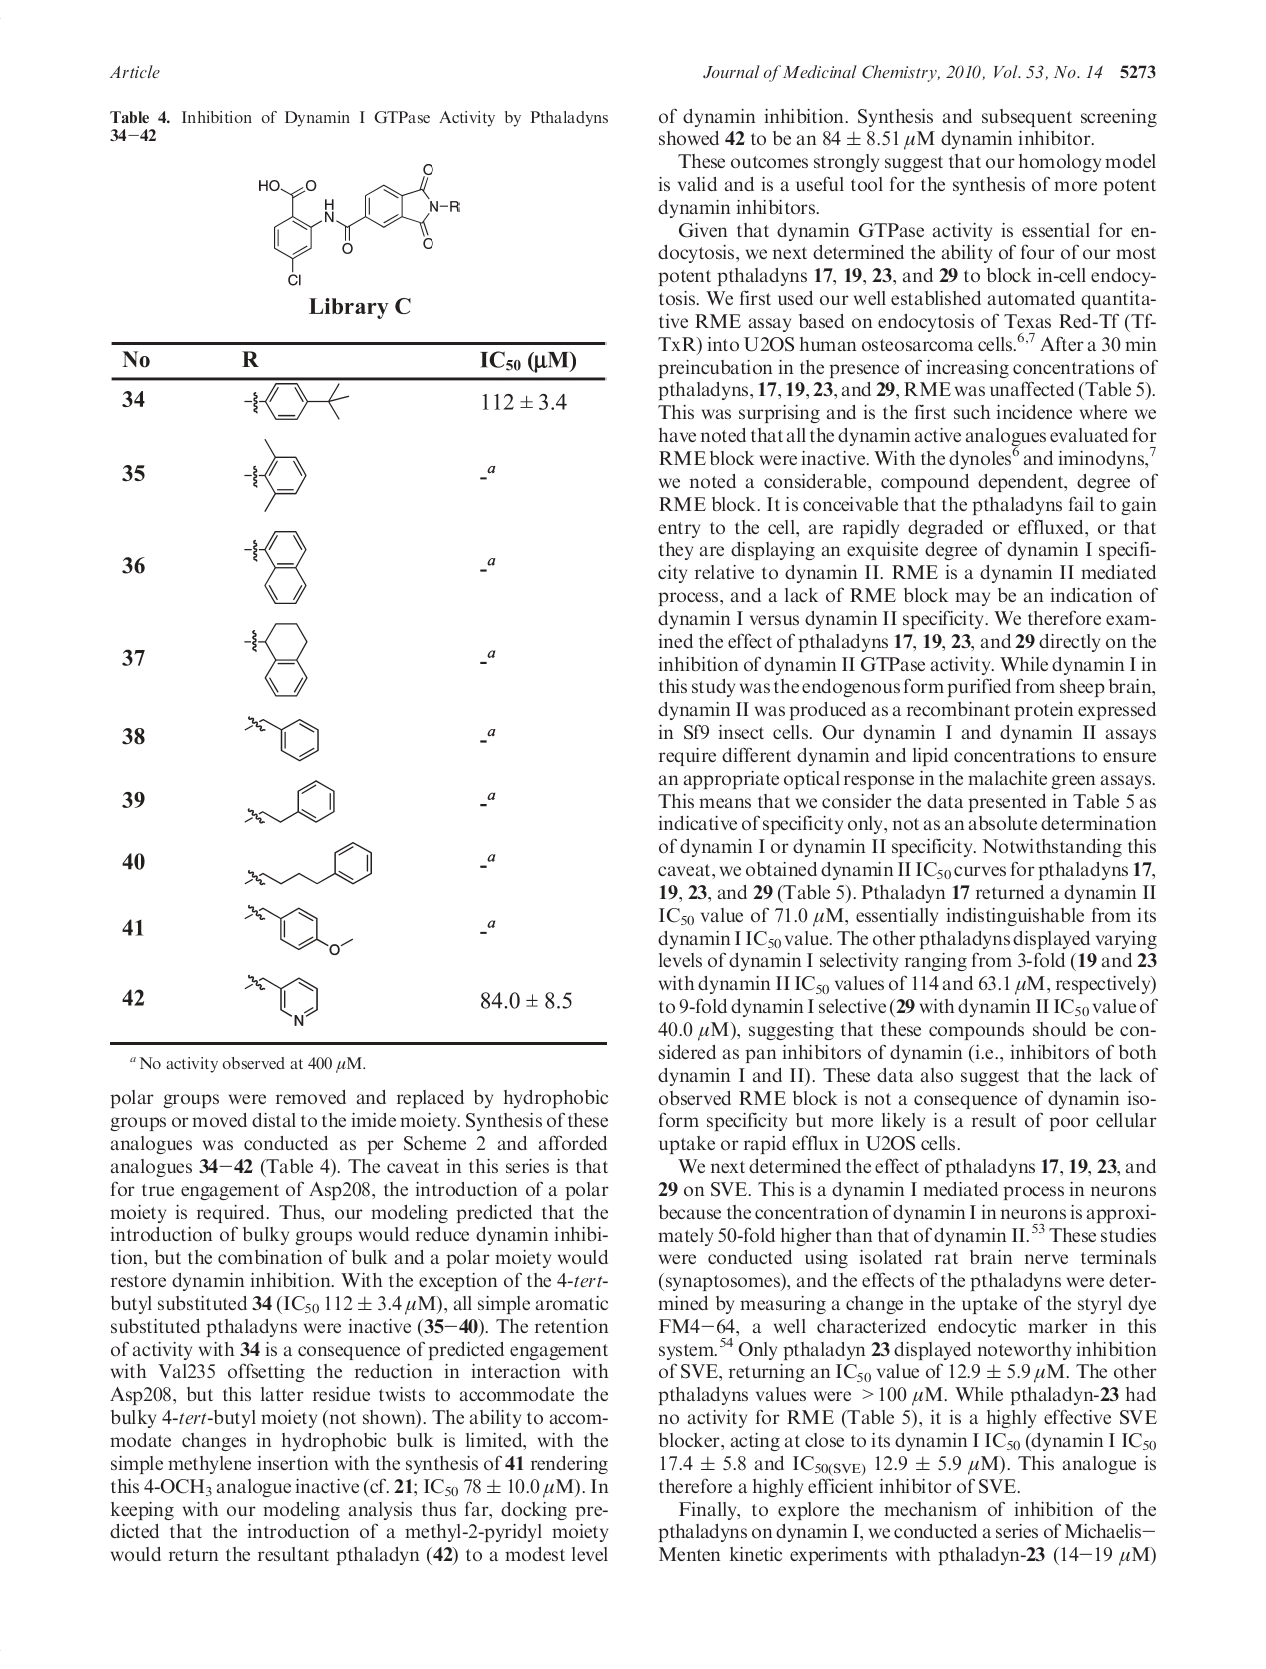exist_molecular: (257, 161, 461, 285), (242, 838, 375, 890), (245, 902, 355, 956), (241, 435, 309, 515), (242, 527, 309, 606), (241, 621, 309, 698), (243, 779, 336, 829), (243, 382, 351, 423), (243, 971, 320, 1027), (239, 713, 320, 763)
